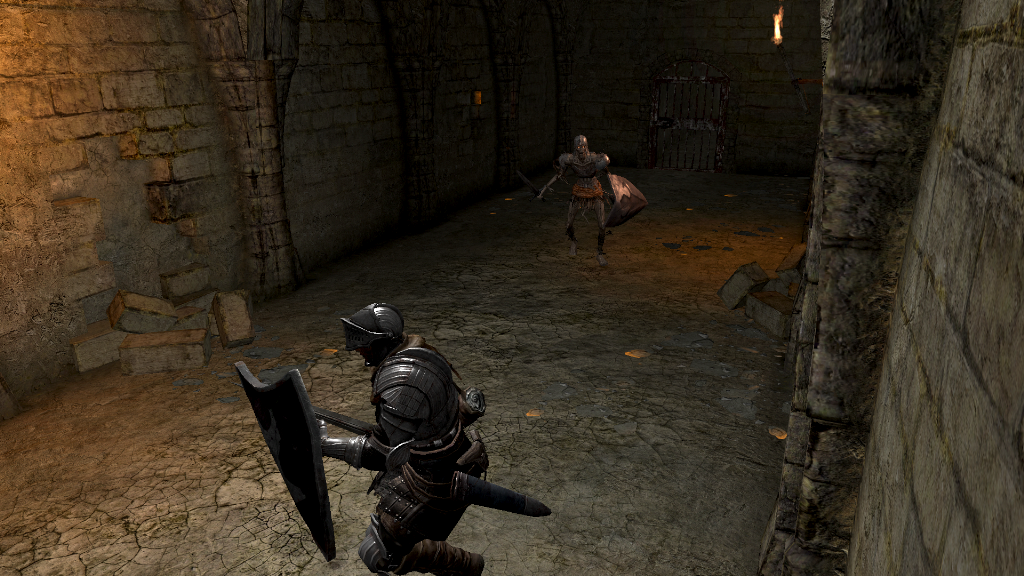player: (232, 302, 490, 576)
undeadSoldier: (533, 134, 649, 265)
